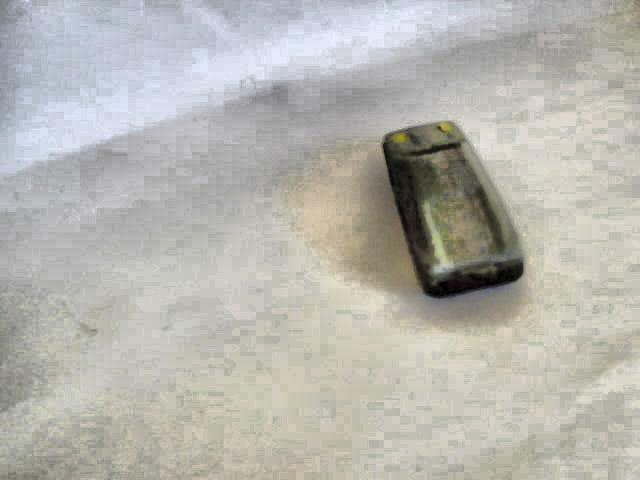normal_car: (368, 108, 533, 305)
